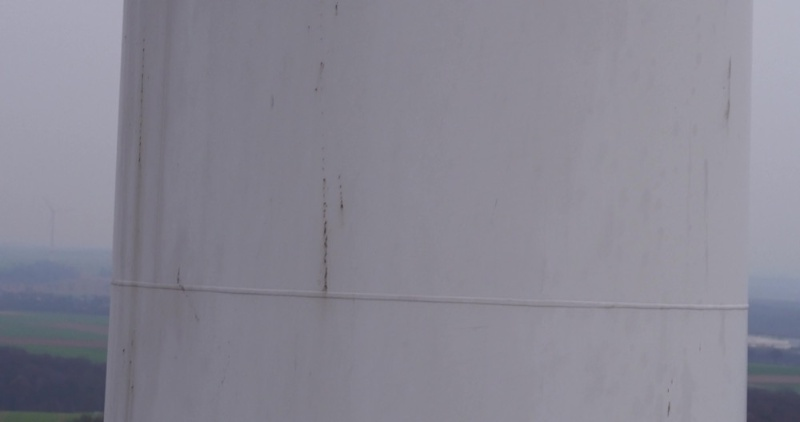weldseam: (105, 274, 753, 314)
